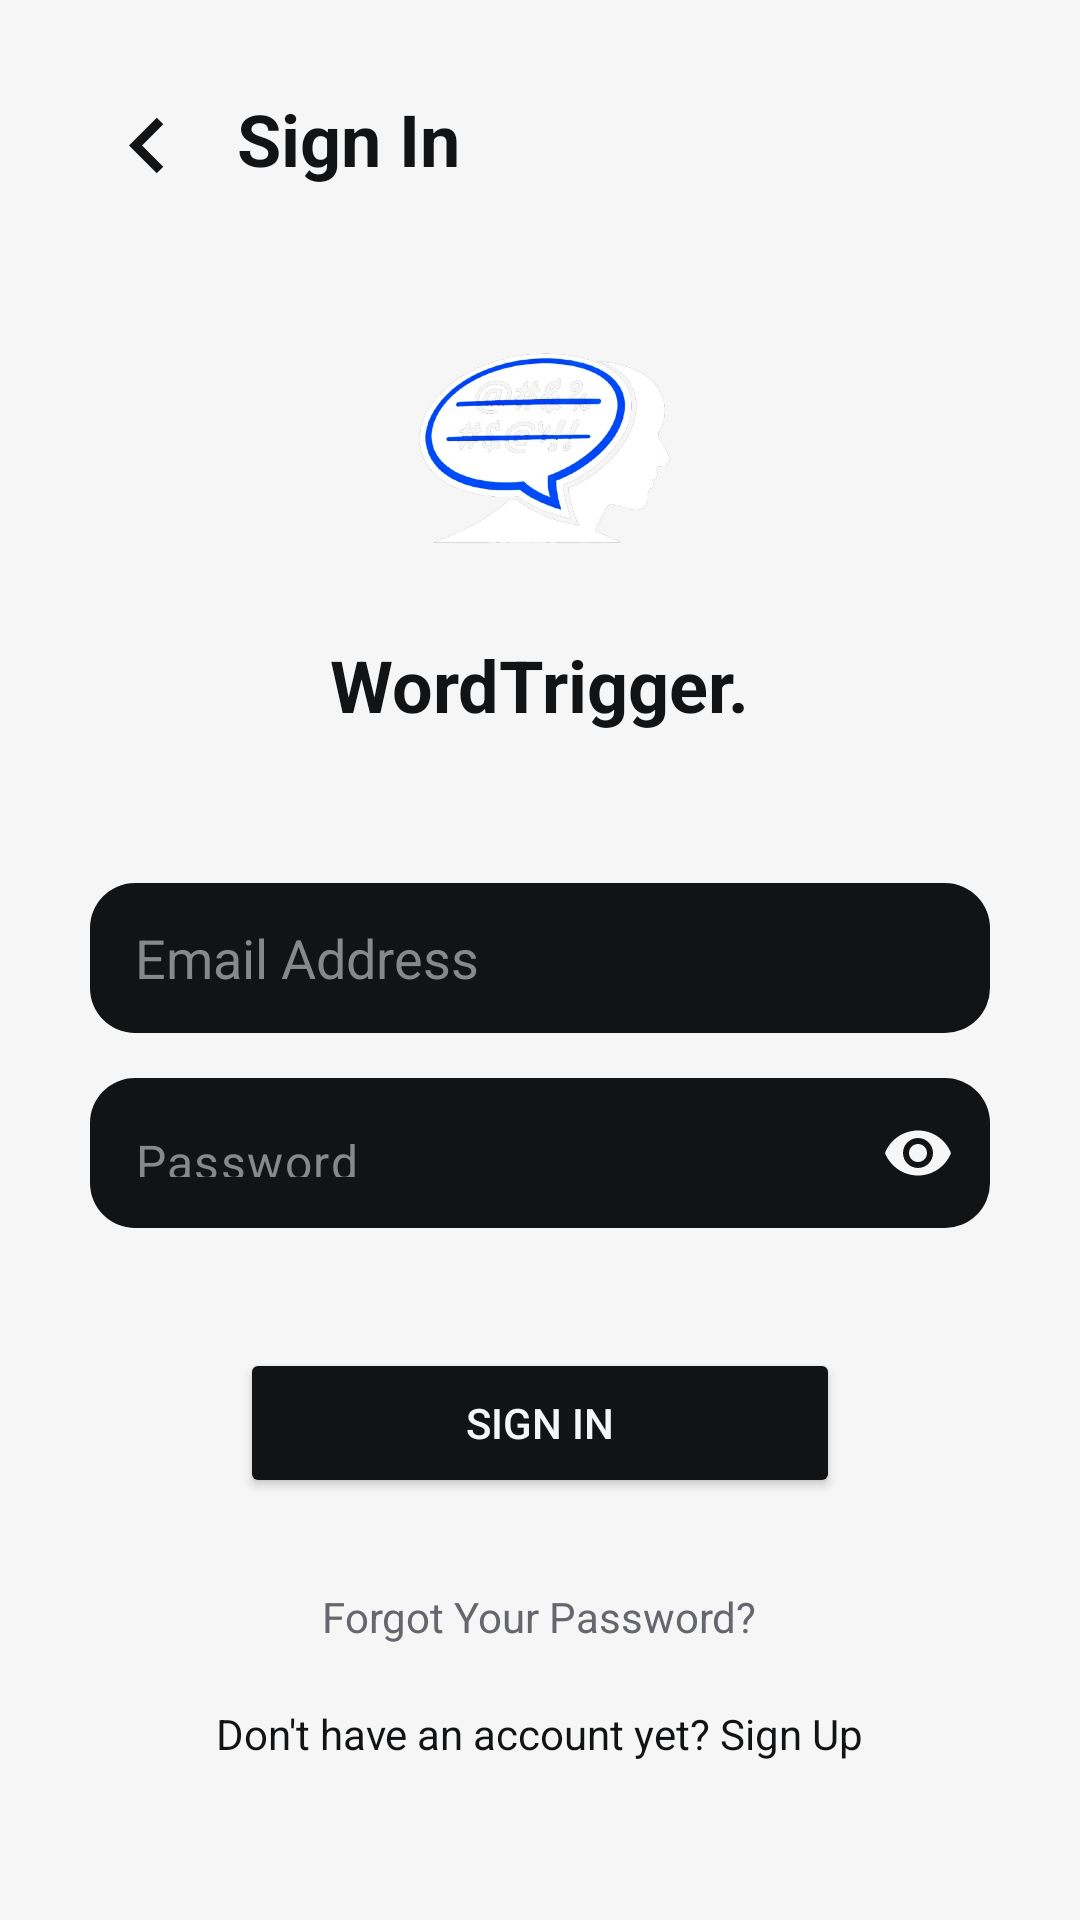

Named icons in this screenshot (1080px x 1920px) and their centers, (x=x, y=y):
arrow left: (x=146, y=145)
